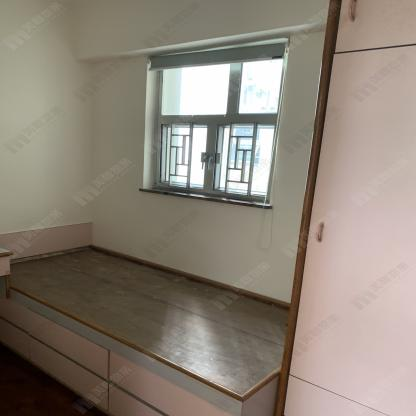Bed Frame: (0, 222, 290, 416)
Closet: (280, 0, 416, 415)
